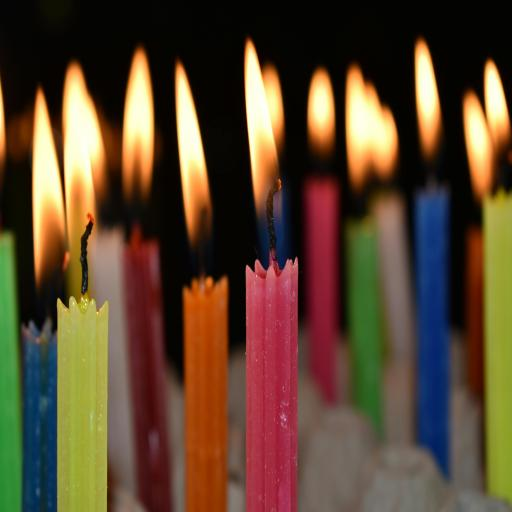candlelight: (232, 32, 313, 512), (116, 49, 172, 509), (176, 55, 228, 512), (342, 64, 402, 437), (58, 60, 108, 501), (464, 56, 512, 503), (86, 59, 136, 488), (22, 87, 64, 512), (411, 40, 451, 473), (0, 61, 23, 512)
